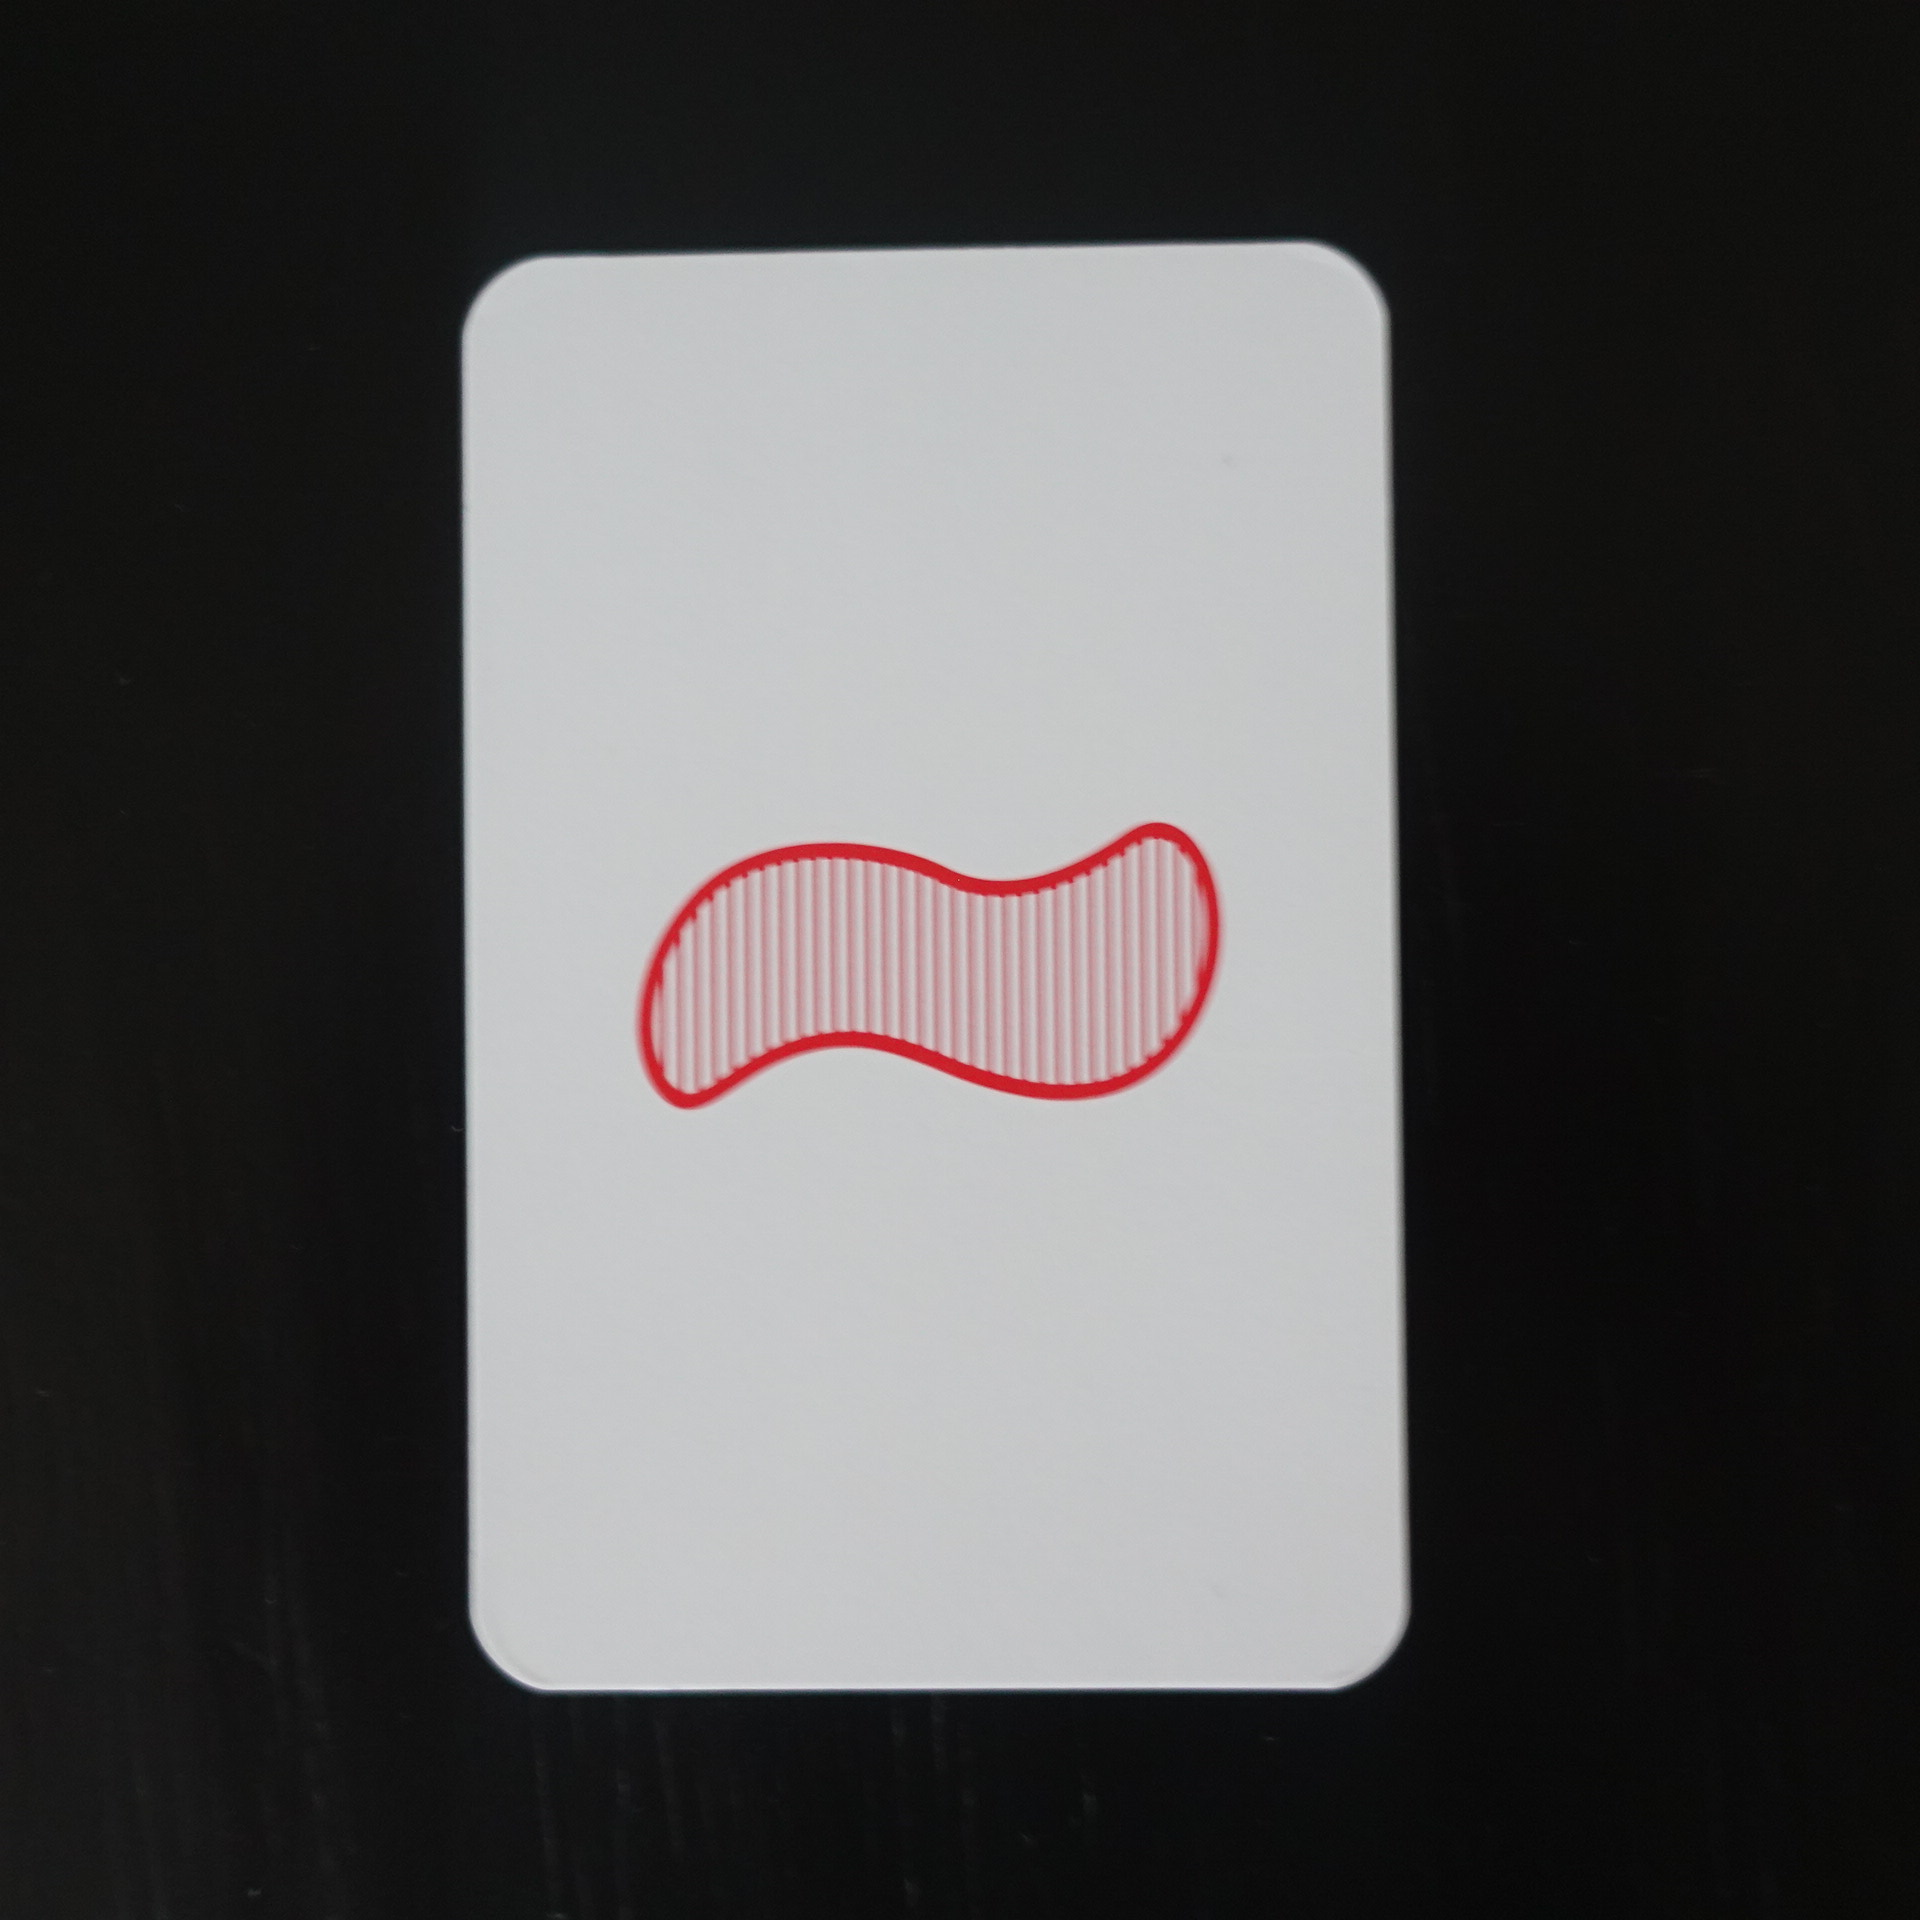c-1-h-s-r: (396, 220, 1431, 1721)
